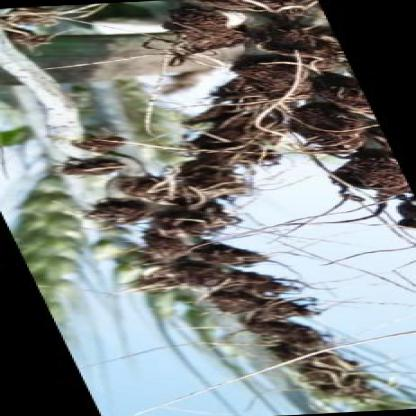Wheat Smut: (306, 100, 374, 133), (260, 0, 322, 35), (104, 205, 218, 223), (282, 351, 352, 380), (192, 134, 262, 160), (180, 9, 229, 46), (210, 102, 277, 129), (138, 248, 244, 265), (234, 68, 296, 96), (216, 294, 297, 315), (183, 164, 242, 191), (150, 268, 231, 287), (359, 159, 415, 186), (270, 41, 344, 61), (254, 323, 312, 348), (330, 388, 393, 408), (306, 69, 346, 94), (119, 181, 172, 197), (59, 159, 121, 171), (156, 228, 212, 241), (84, 136, 118, 148), (255, 278, 289, 289), (323, 138, 348, 152)
